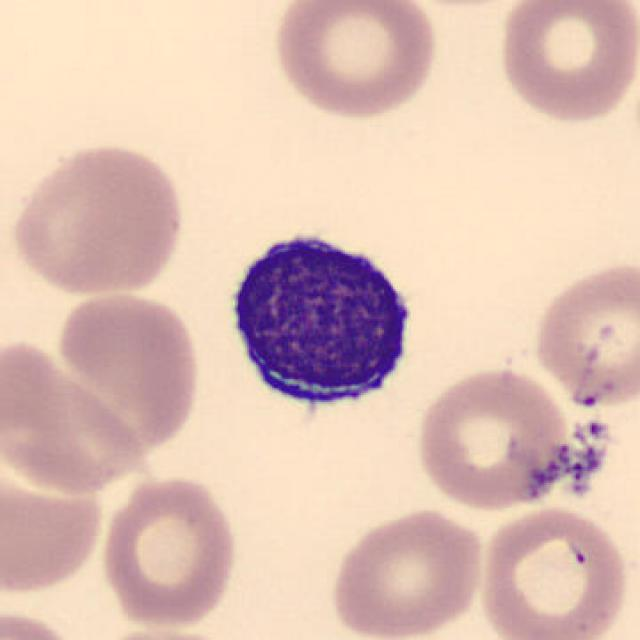Lymphocyte: (213, 214, 427, 428)
RBC: (7, 138, 190, 300), (412, 363, 582, 513), (53, 287, 203, 453), (2, 332, 148, 496), (94, 470, 242, 628), (325, 502, 487, 640), (475, 502, 633, 640), (266, 0, 442, 123), (492, 0, 638, 127), (0, 426, 104, 593), (528, 255, 638, 412), (0, 604, 87, 640), (84, 624, 245, 640)
